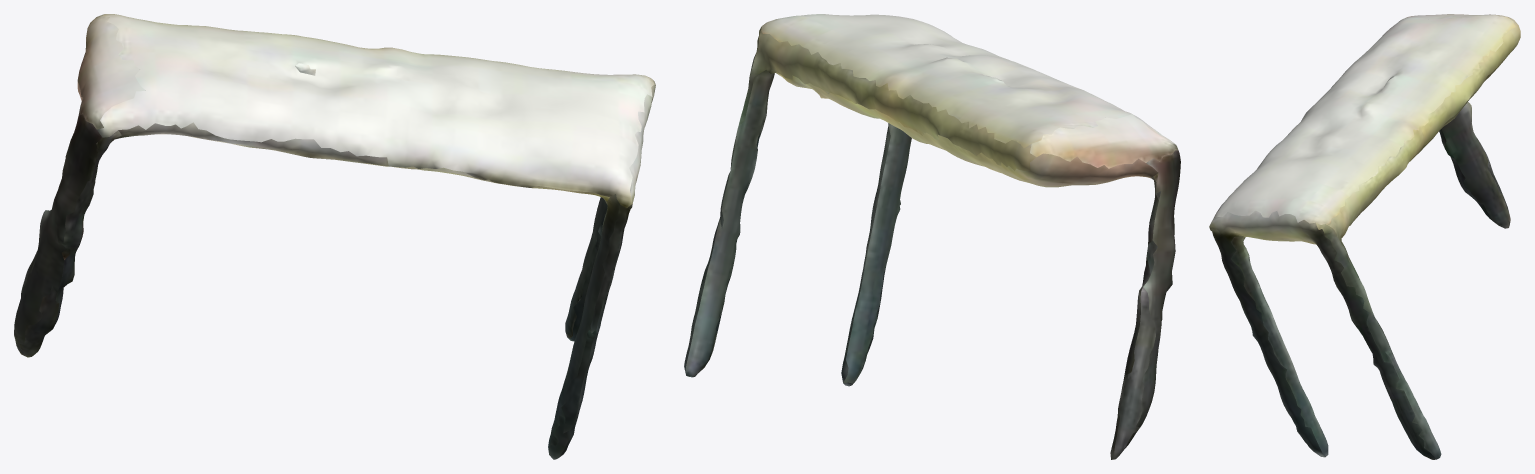
The model's file is 30_chair.glb.
The picture shows the model from 3 angles, left to right: view 1: azimuth 30°, elevation 25°; view 2: azimuth 150°, elevation 25°; view 3: azimuth 270°, elevation 25°; orthographic projection. The views are drawn at different scales.
Parts seen in each view (by area): view 1: 30_chair; view 2: 30_chair; view 3: 30_chair.
Part boxes in pixels (<box>): 30_chair: <box>14,14,655,459</box>; 30_chair: <box>684,14,1180,459</box>; 30_chair: <box>1209,14,1520,459</box>.
Size of the model in its own units: 1.44 by 1.13 by 0.99.
Materials: 1 (1 with a texture image).
